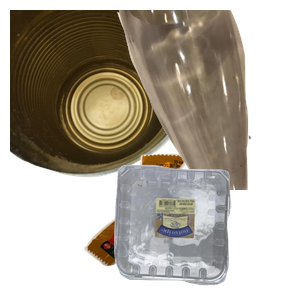glass: (115, 10, 300, 190)
metal: (10, 10, 200, 180)
plastic: (112, 162, 300, 300)
trash: (82, 151, 260, 300)
